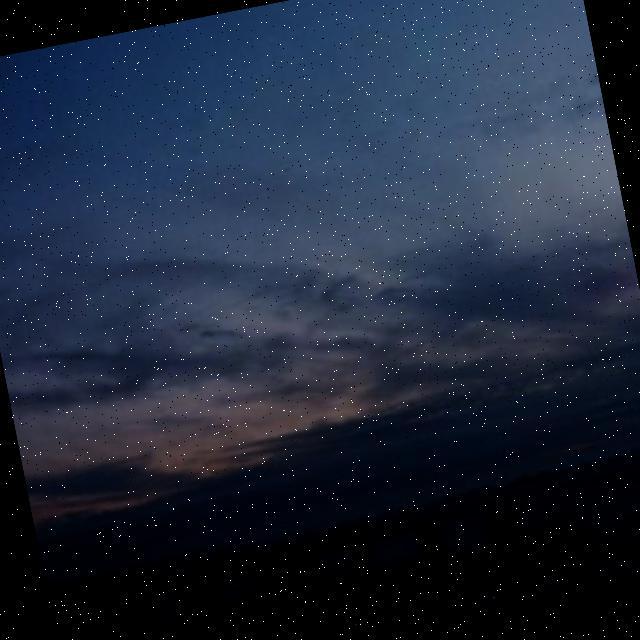As: (1, 54, 640, 513)
